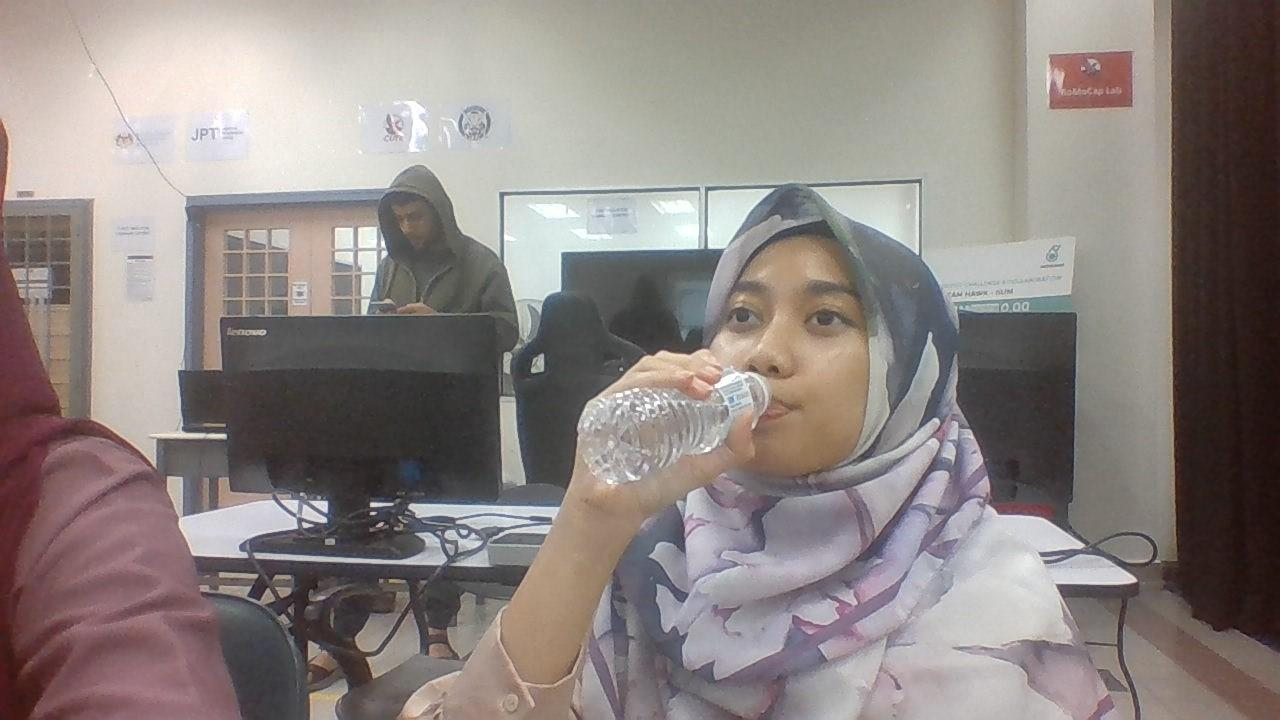Drinking: (579, 236, 867, 507)
